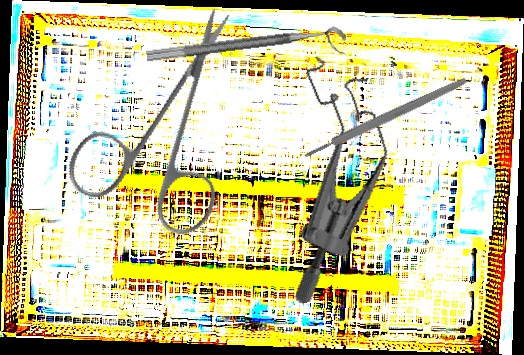Fixation Ring: (145, 24, 349, 80)
Iris Scissors: (31, 4, 296, 266)
Scalpel Handle: (302, 75, 469, 161)
Speculum: (226, 42, 429, 307)
